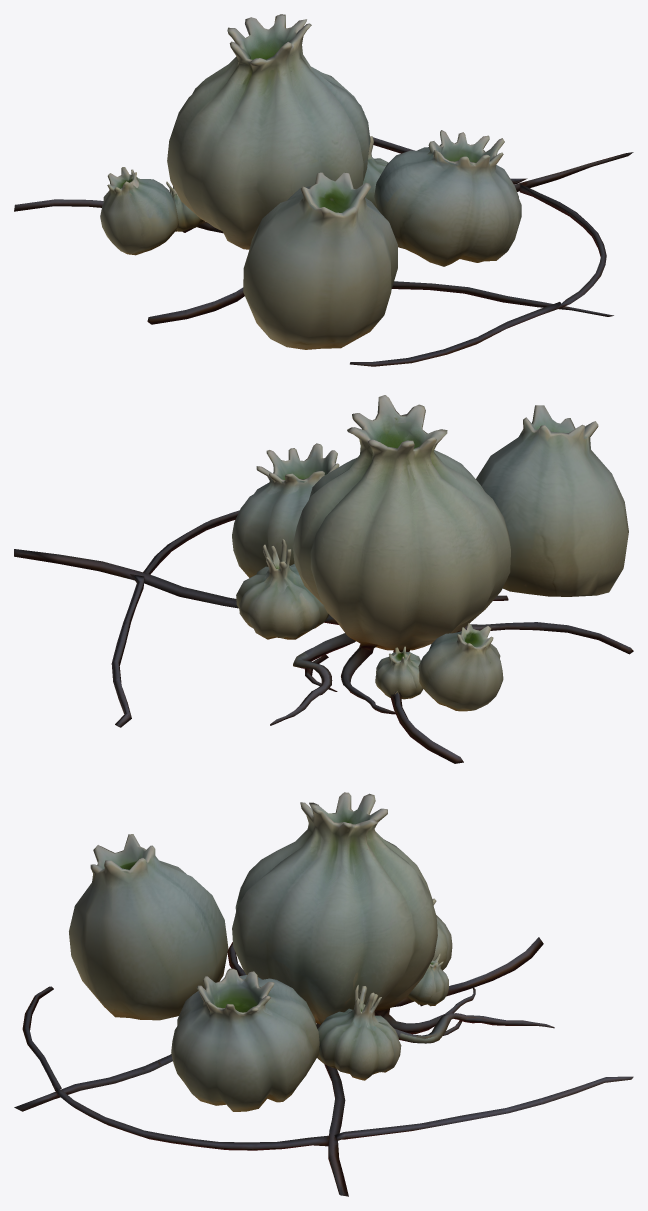
Rendered from pale_pod.glb.
The picture shows the model from 3 angles, top to bottom: view 1: azimuth 30°, elevation 25°; view 2: azimuth 150°, elevation 25°; view 3: azimuth 270°, elevation 25°; orthographic projection. The views are drawn at different scales.
Visible parts, largest first — view 1: world; view 2: world; view 3: world.
Part boxes in pixels (x1=…): world: x1=14, y1=14, x2=633, y2=366; world: x1=14, y1=395, x2=633, y2=763; world: x1=14, y1=792, x2=633, y2=1196.
Bounding box in the file's own units: 0.998 × 0.4121 × 0.9941.
Materials: 1 (1 with a texture image).
